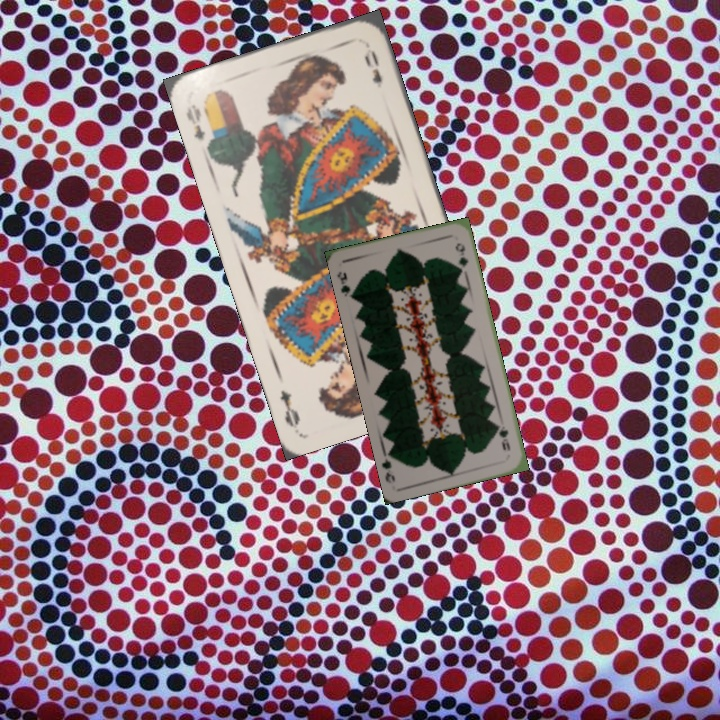EO: (182, 100, 208, 142)
G9: (333, 268, 357, 302), (493, 420, 513, 453)
